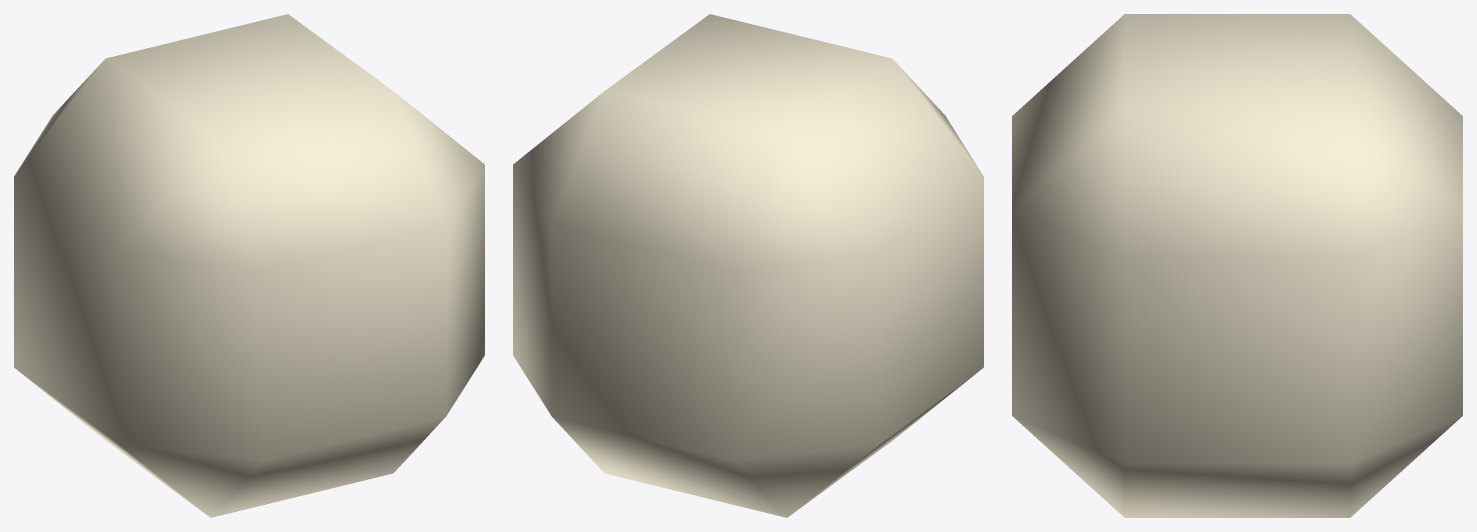
Rendered from 0029_Turtle_Egg.glb.
The picture shows the model from 3 angles, left to right: view 1: azimuth 30°, elevation 25°; view 2: azimuth 150°, elevation 25°; view 3: azimuth 270°, elevation 25°; orthographic projection. The views are drawn at different scales.
Visible parts, largest first — view 1: part_0; view 2: part_0; view 3: part_0.
Part boxes in pixels (x1,y1,x2,y2): part_0: [14, 14, 484, 517]; part_0: [513, 14, 983, 517]; part_0: [1012, 14, 1462, 517].
Size of the model in its own units: 0.375 by 0.375 by 0.375.
Materials: 1 (1 with a texture image).
